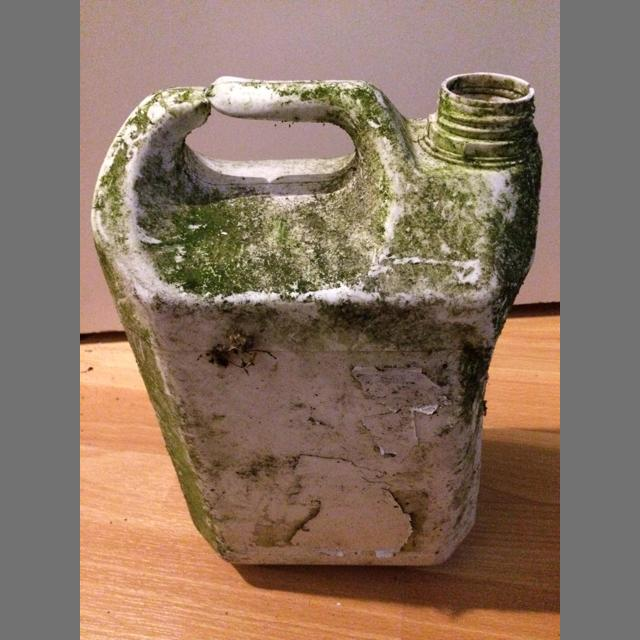litter: (91, 73, 543, 565)
